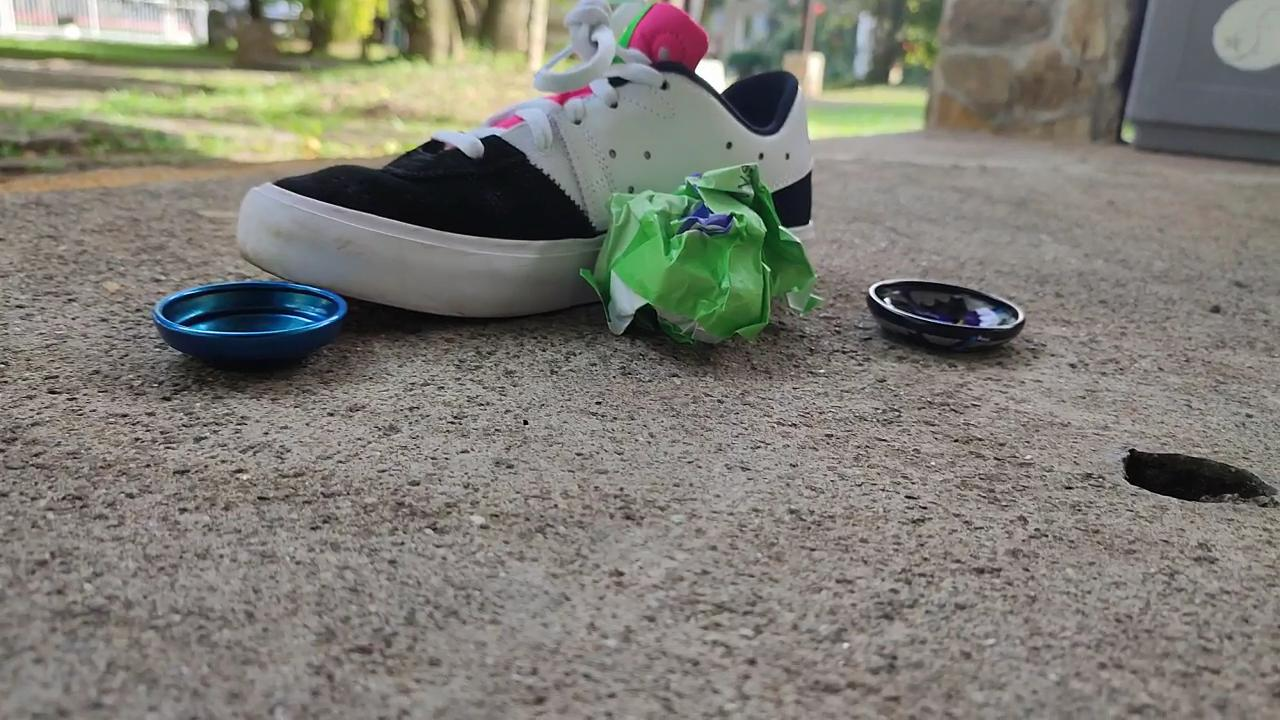Paper: (572, 144, 831, 359)
